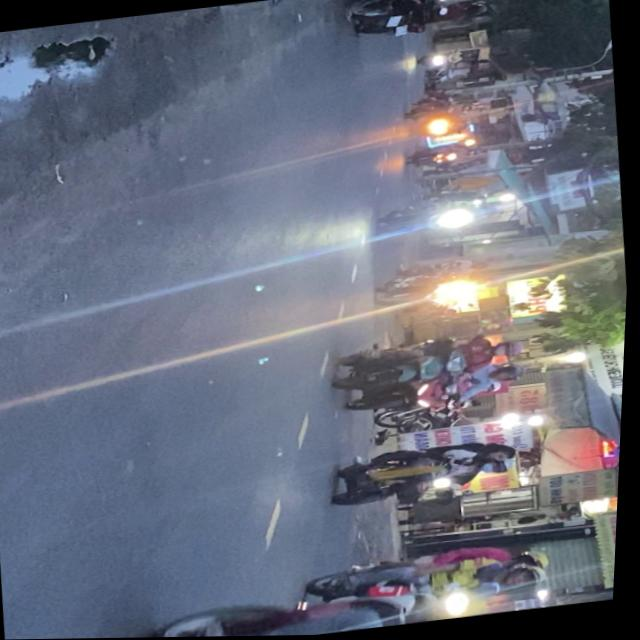helmet: (509, 567, 552, 591), (515, 554, 555, 574), (488, 459, 521, 478)
licenseplate: (303, 535, 561, 626), (330, 438, 526, 512)
motorcyclist: (481, 442, 521, 465)
